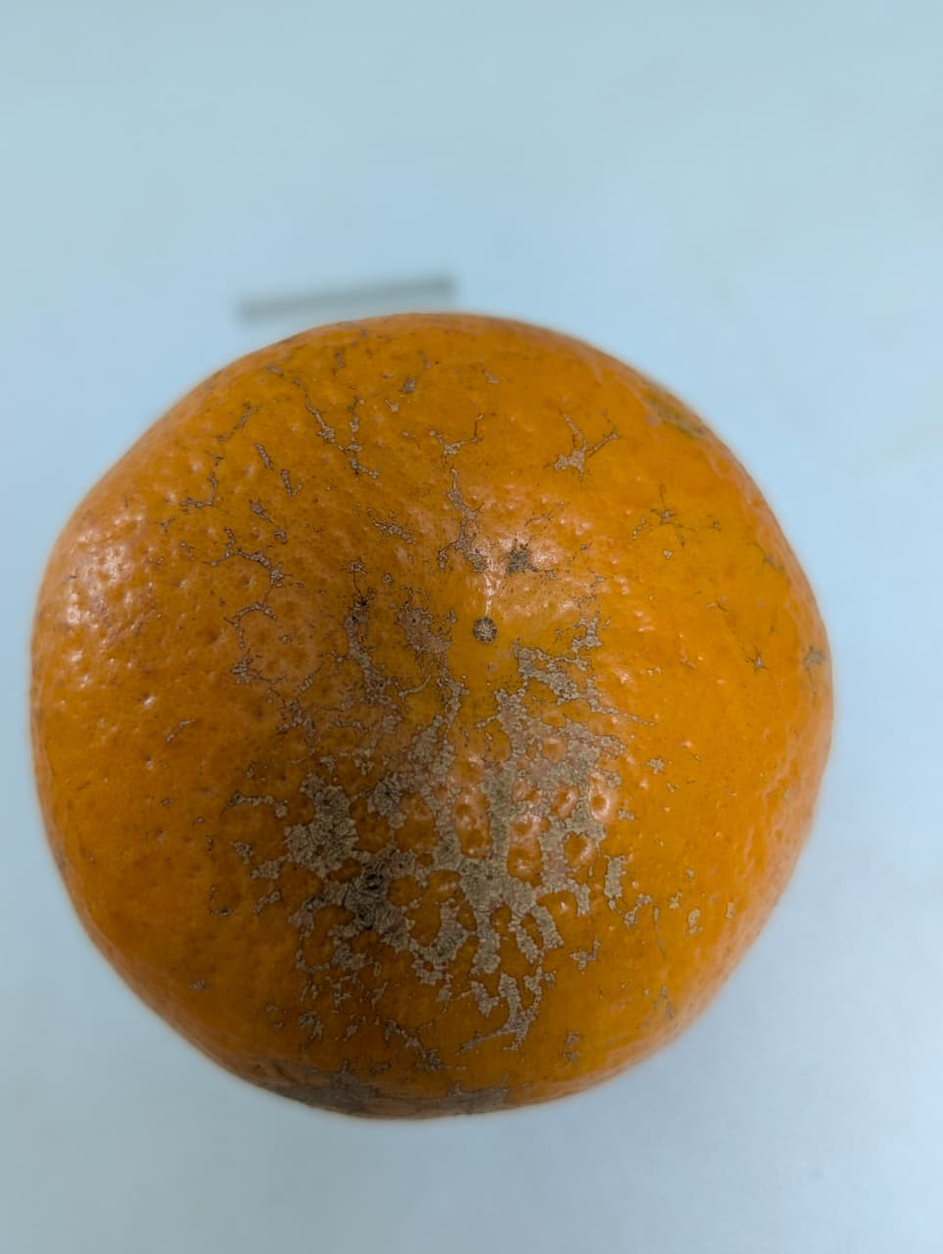orange: (143, 213, 938, 1064)
